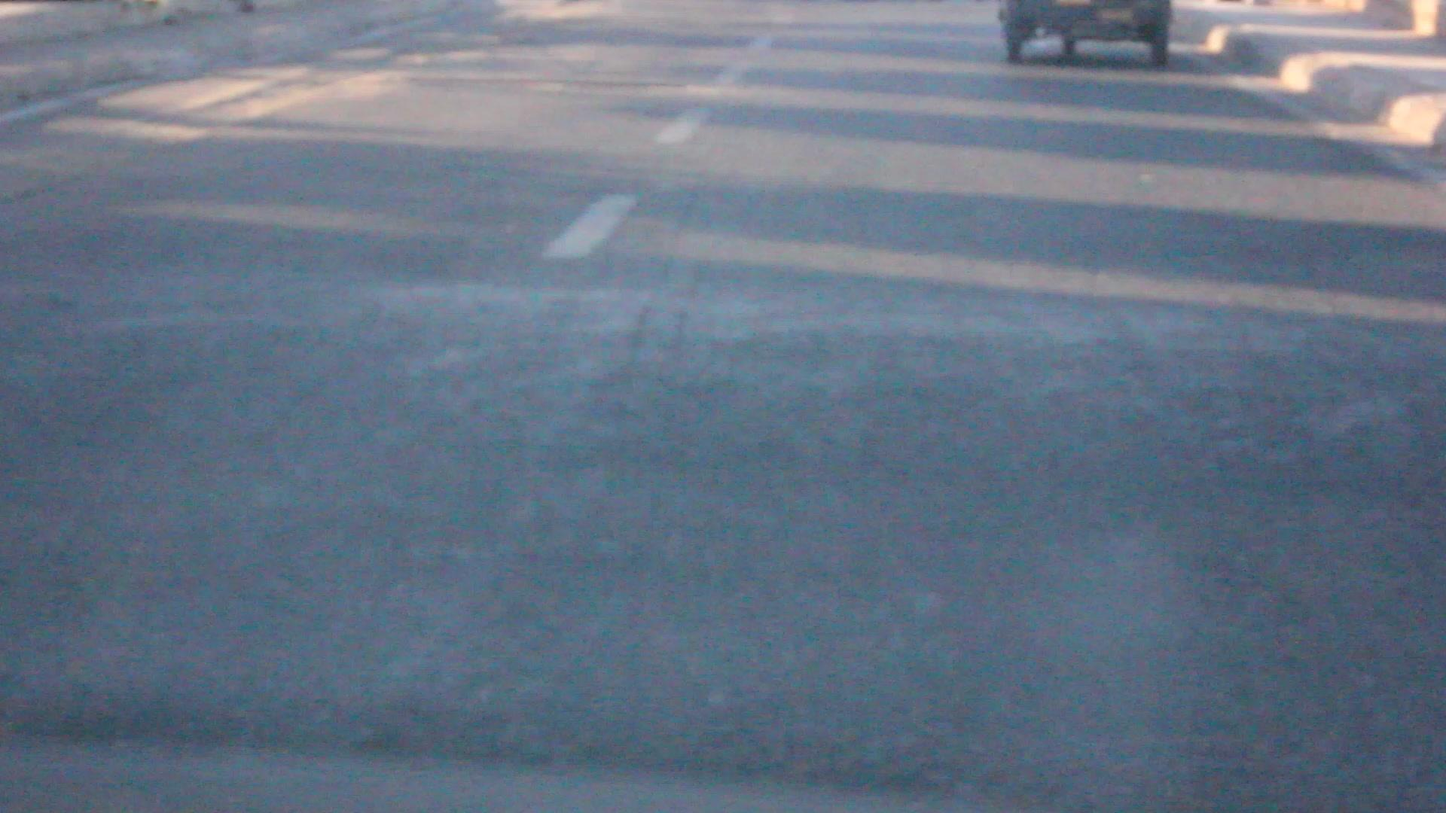Bump: (17, 258, 1446, 753)
